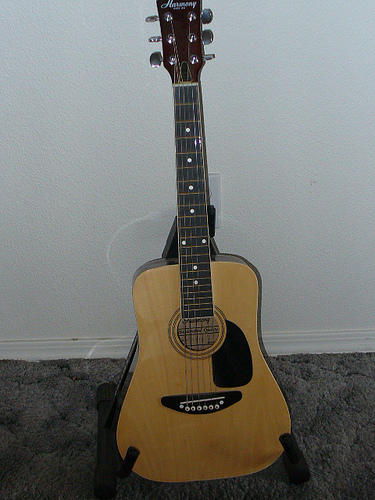guitar: (110, 1, 292, 484)
